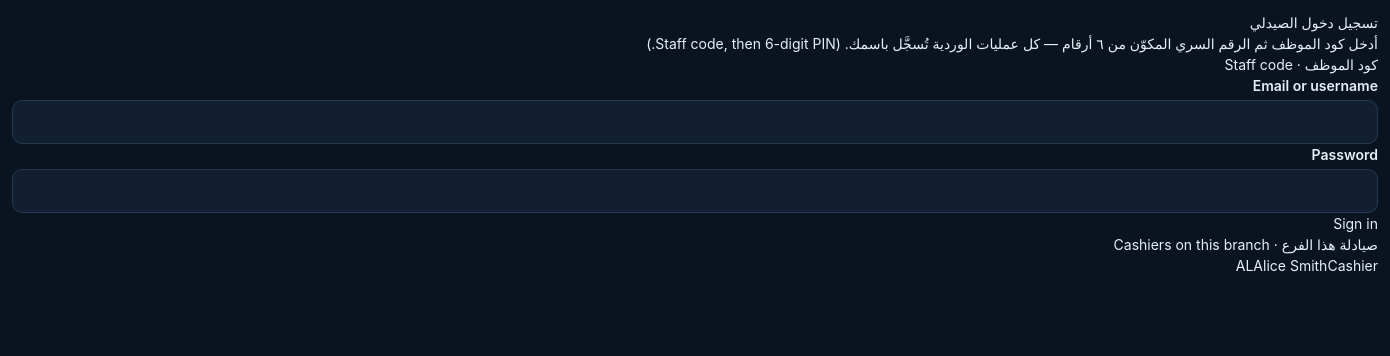
SignInRoute — v3.5 prototype recompose › a selected cashier row shows the Arabic role name (role→Arabic map)
What coordinates should you click on to do the following:
click the button with test id "roster-item-0"
I would click on:
 (1307, 266)
Its box is x1=1236 y1=255 x2=1378 y2=276.
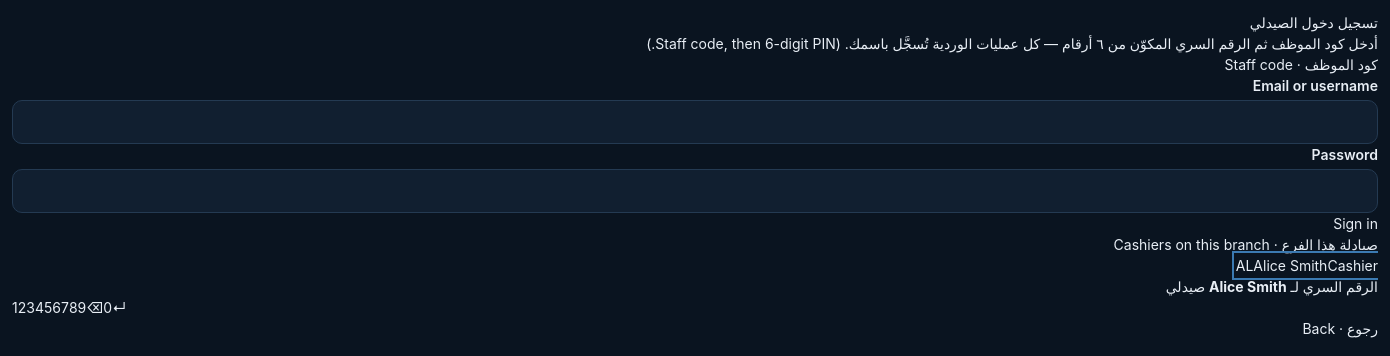
Expected: the element with test id "pin-section" is shown, x1=12 y1=276 x2=1378 y2=339
Expected: the text "صيدلي" is shown, x1=1166 y1=278 x2=1205 y2=295
